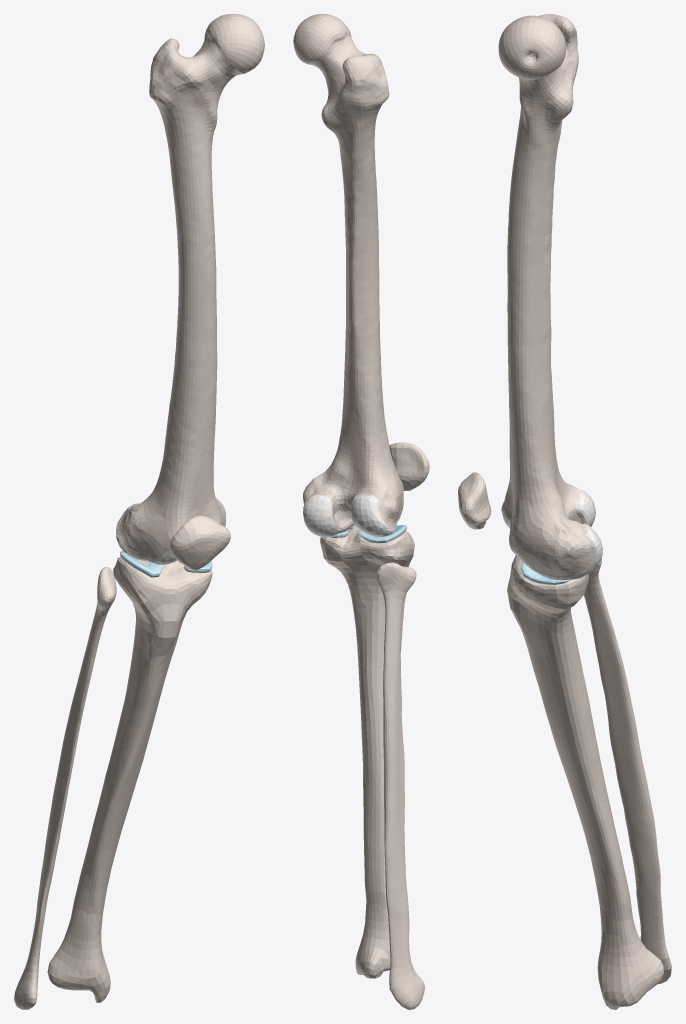
The model's file is VH_M_Knee_R_0.6.glb.
3 renders of one model, left to right at view 1: azimuth 30°, elevation 25°; view 2: azimuth 150°, elevation 25°; view 3: azimuth 270°, elevation 25°, orthographic. The views are drawn at different scales.
Parts seen in each view (by area): view 1: VH_M_femur_R, VH_M_tibia_R, VH_M_fibula_R, VH_M_patella_R, VH_M_meniscus_R; view 2: VH_M_femur_R, VH_M_tibia_R, VH_M_fibula_R, VH_M_patella_R, VH_M_medial_condyle_of_right_femur_inf, VH_M_lateral_condyle_of_femur_inf_R, VH_M_meniscus_R, VH_M_articular_cartilage_of_knee_R; view 3: VH_M_femur_R, VH_M_tibia_R, VH_M_fibula_R, VH_M_patella_R, VH_M_articular_cartilage_of_knee_R.
Part boxes in pixels (x1,y1,x2,y2): VH_M_femur_R: (118,14,264,558); VH_M_tibia_R: (47,557,212,1002); VH_M_fibula_R: (14,567,116,1009); VH_M_patella_R: (170,515,230,569); VH_M_meniscus_R: (120,550,212,577); VH_M_femur_R: (293,14,403,528); VH_M_tibia_R: (320,526,414,978); VH_M_fibula_R: (376,562,424,1009); VH_M_patella_R: (389,442,429,490); VH_M_medial_condyle_of_right_femur_inf: (303,495,336,535); VH_M_lateral_condyle_of_femur_inf_R: (351,495,386,534); VH_M_meniscus_R: (329,525,406,543); VH_M_articular_cartilage_of_knee_R: (314,484,403,537); VH_M_femur_R: (498,14,592,577); VH_M_tibia_R: (507,540,663,1009); VH_M_fibula_R: (583,557,671,983); VH_M_patella_R: (458,472,491,529); VH_M_articular_cartilage_of_knee_R: (502,489,594,580).
Size of the model in its own units: 0.1734 by 0.8875 by 0.1646.
